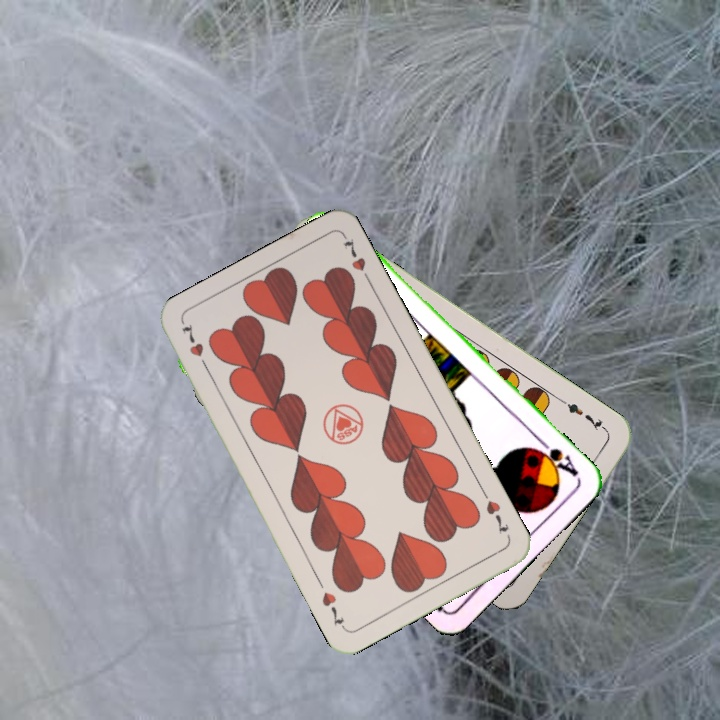E7: (557, 396, 610, 434)
H7: (177, 319, 212, 374), (477, 486, 512, 537)
SA: (529, 434, 582, 480)
